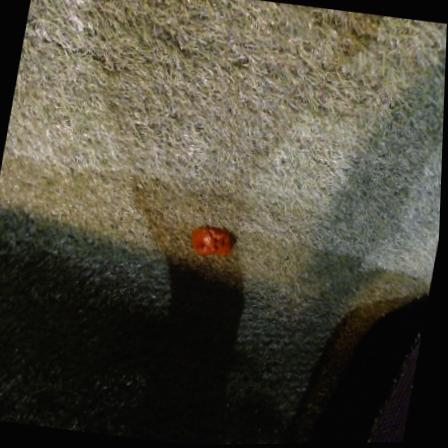dog-poop: (190, 223, 240, 265)
